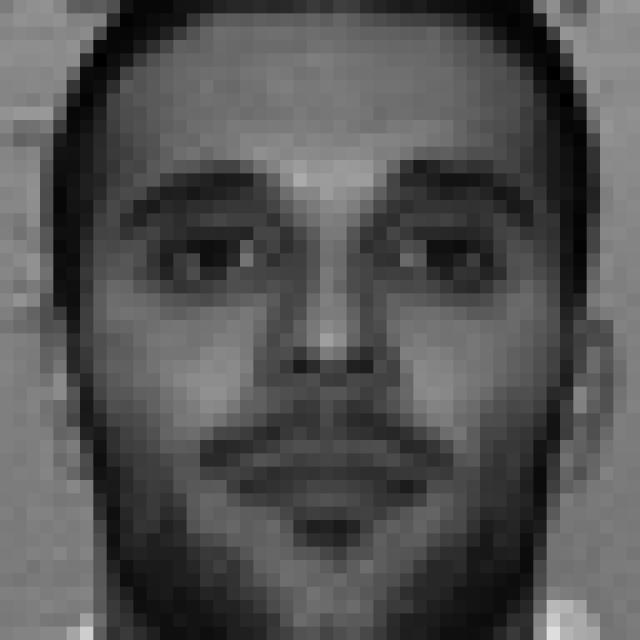neutral: (111, 149, 541, 557)
